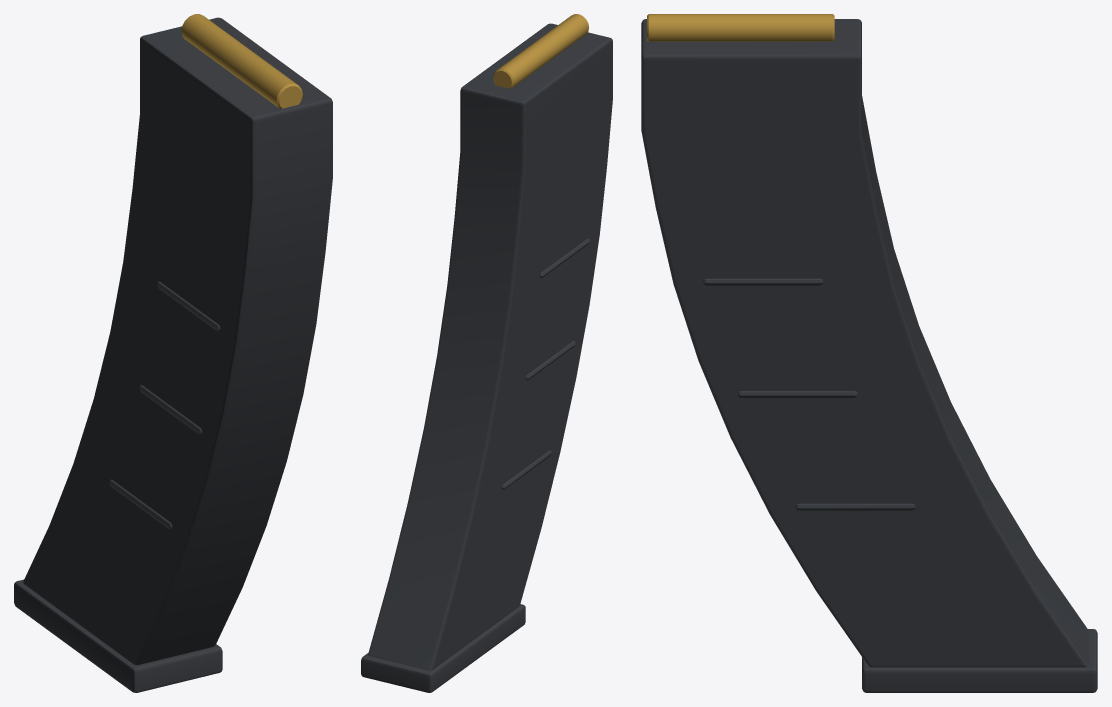
The model's file is mod_drover_standard_mag.glb.
The picture shows the model from 3 angles, left to right: view 1: azimuth 30°, elevation 25°; view 2: azimuth 150°, elevation 25°; view 3: azimuth 270°, elevation 25°; orthographic projection. The views are drawn at different scales.
Parts seen in each view (by area): view 1: Magazine, MagazineRound; view 2: Magazine, MagazineRound; view 3: Magazine, MagazineRound.
Boxes of the visible parts, box(x1,y1,x2,y2) form: Magazine: box(14, 17, 332, 692); MagazineRound: box(181, 14, 302, 108); Magazine: box(361, 23, 612, 692); MagazineRound: box(493, 14, 588, 88); Magazine: box(641, 19, 1097, 692); MagazineRound: box(647, 14, 834, 41).
Bounding box in the file's own units: 0.0274 × 0.1974 × 0.124.
